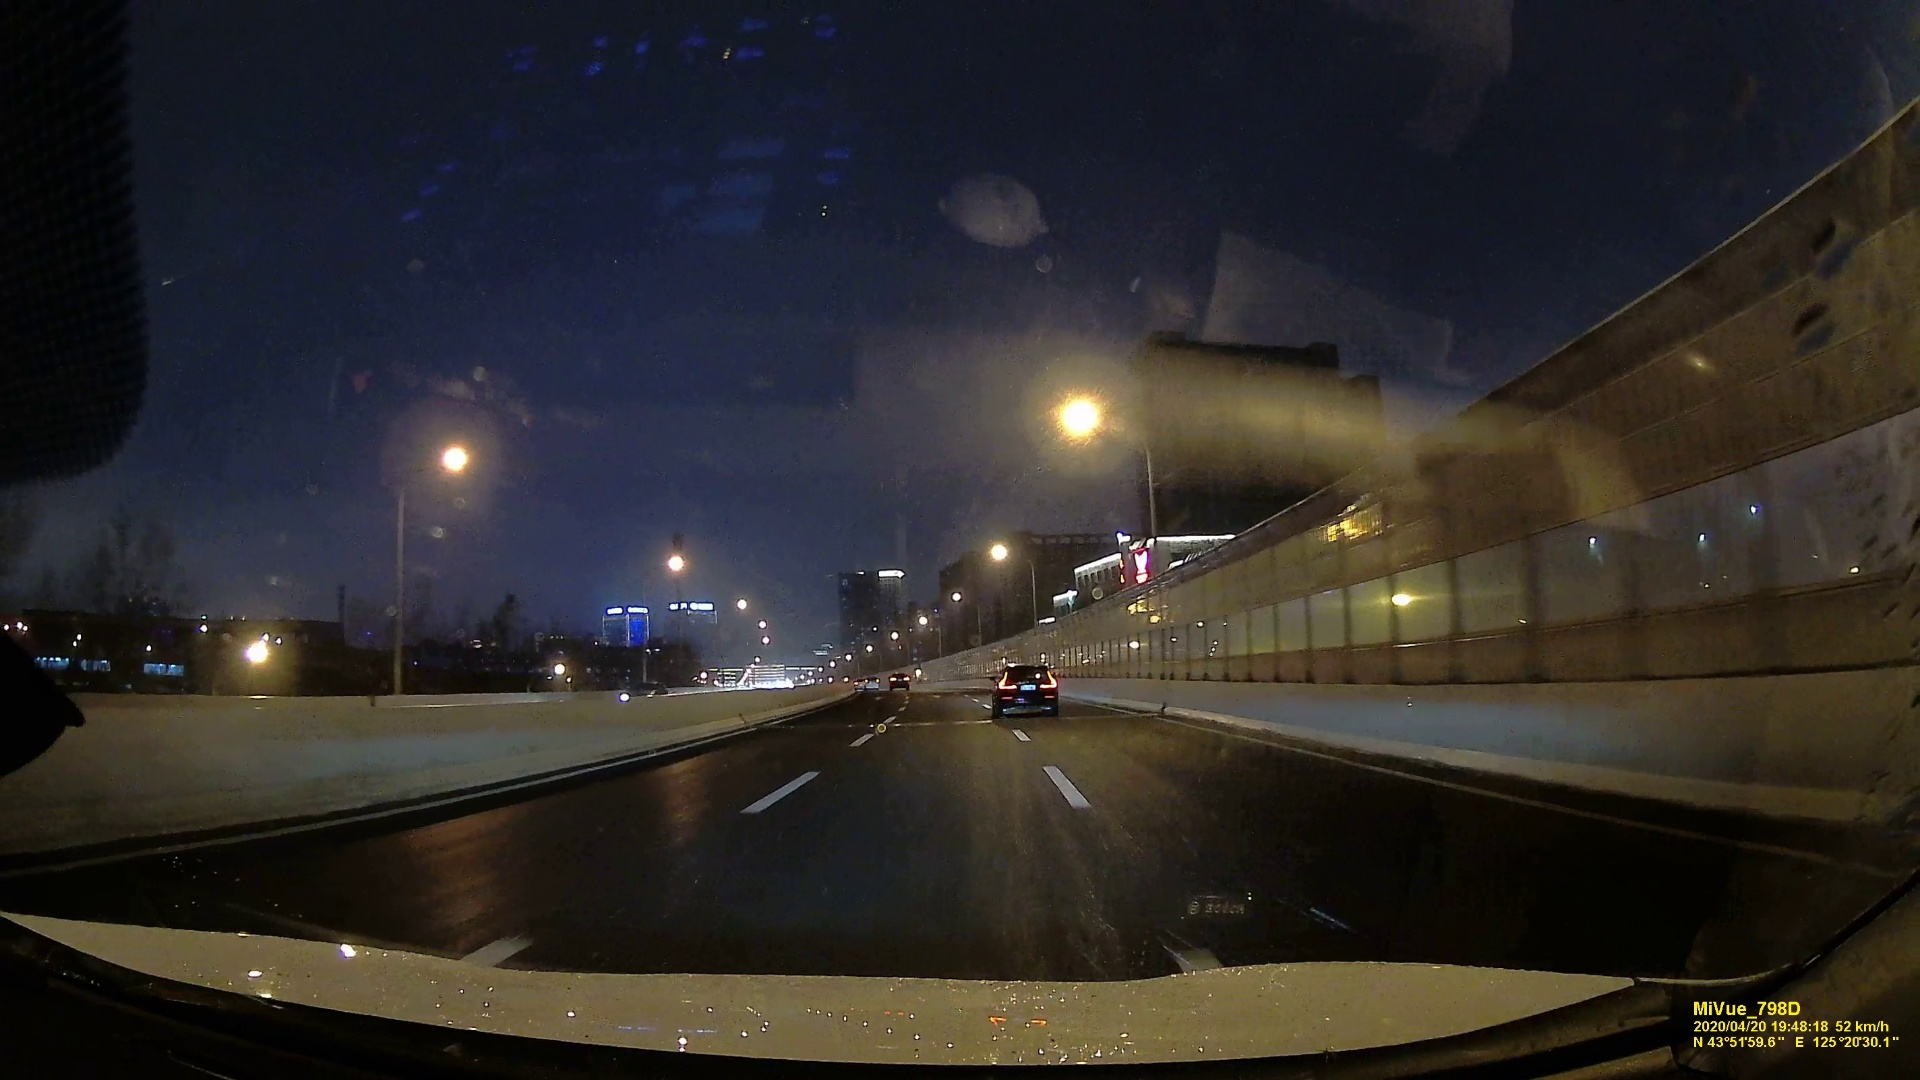vehicle: (992, 661, 1062, 717), (891, 669, 920, 687)
